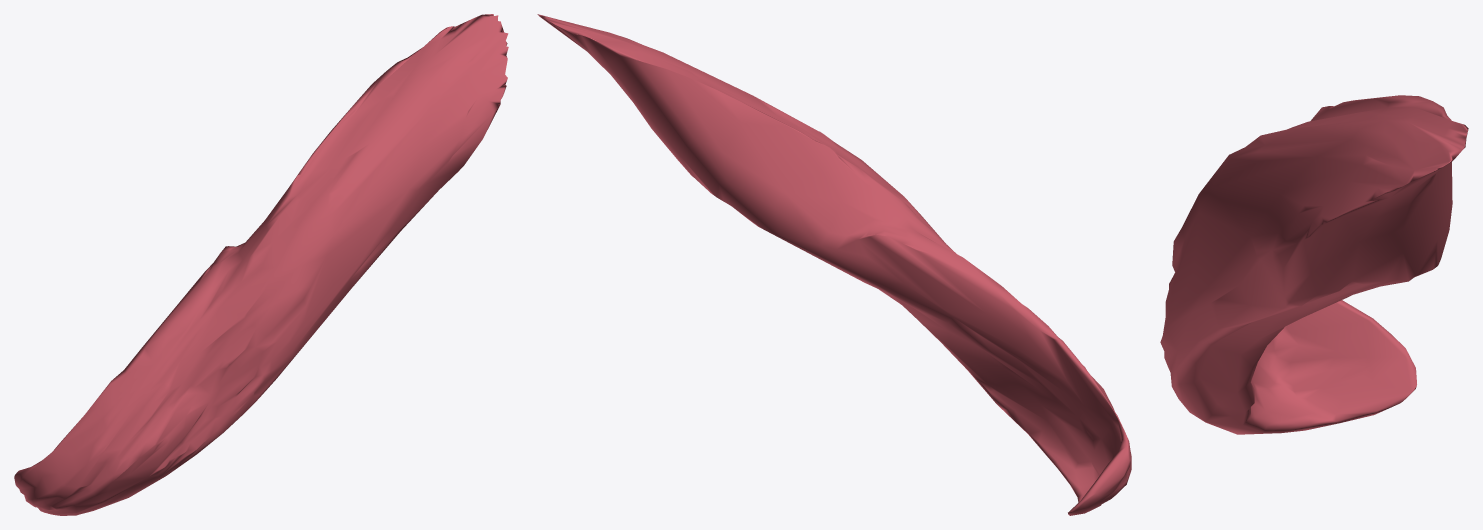
3 renders of one model, left to right at view 1: azimuth 30°, elevation 25°; view 2: azimuth 150°, elevation 25°; view 3: azimuth 270°, elevation 25°, orthographic. The views are drawn at different scales.
Parts seen in each view (by area): view 1: 右侧冈上肌; view 2: 右侧冈上肌; view 3: 右侧冈上肌.
Boxes of the visible parts, x1,y1,x2,y2 form: 右侧冈上肌: (14,14,508,515); 右侧冈上肌: (537,14,1131,515); 右侧冈上肌: (1160,95,1468,434).
Bounding box in the file's own units: 0.1843 × 0.1249 × 0.0483.
